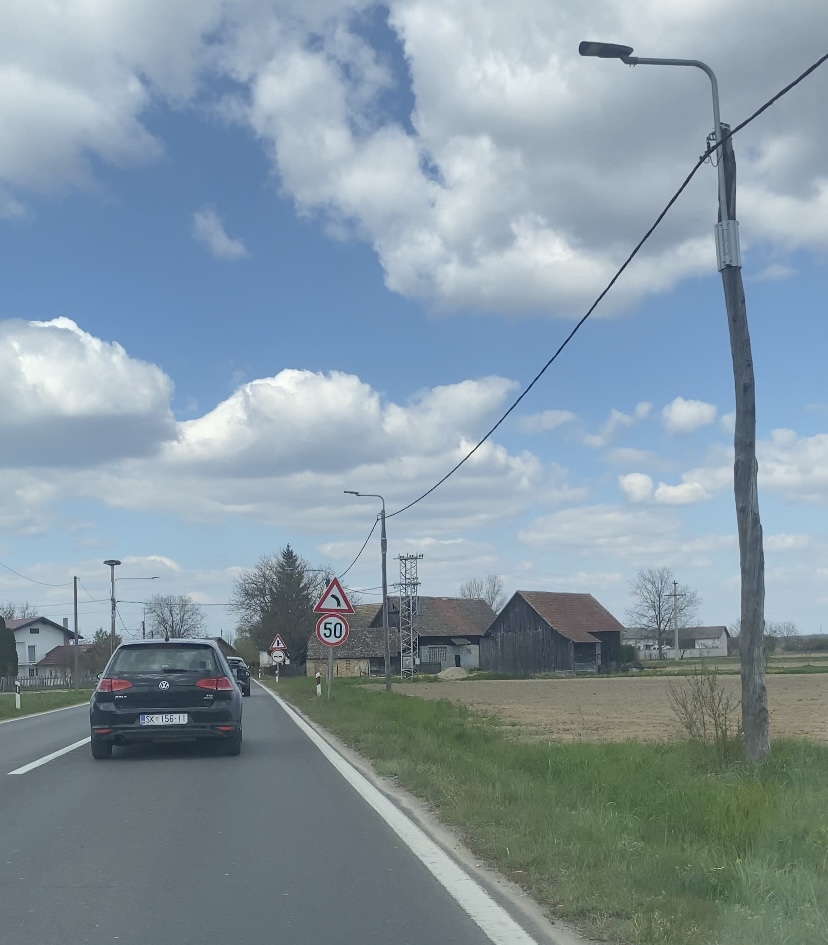Ograničenje brzine 50: (316, 614, 349, 647)
Zabrana pretjecanja: (271, 649, 285, 663)
